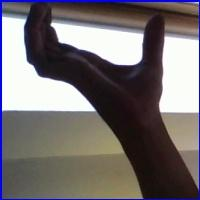space: (17, 2, 176, 129)
